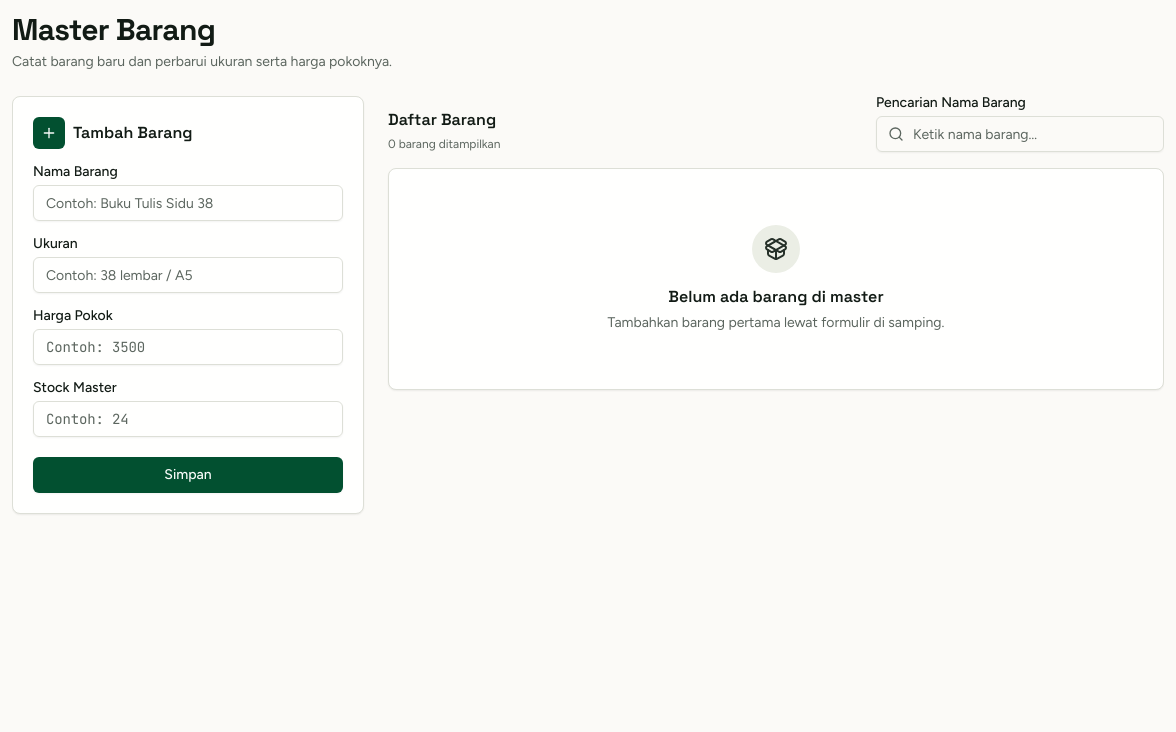
Test: MasterBarangPage › creates a barang and shows it in the master list
The image size is (1176, 732).
Expected: the text "Belum ada barang di master" is shown, [668,286,884,307]
Type "Buku Tulis Sidu" into the field with test id "master.nama_input" at (188, 203), box [33,185,343,221]
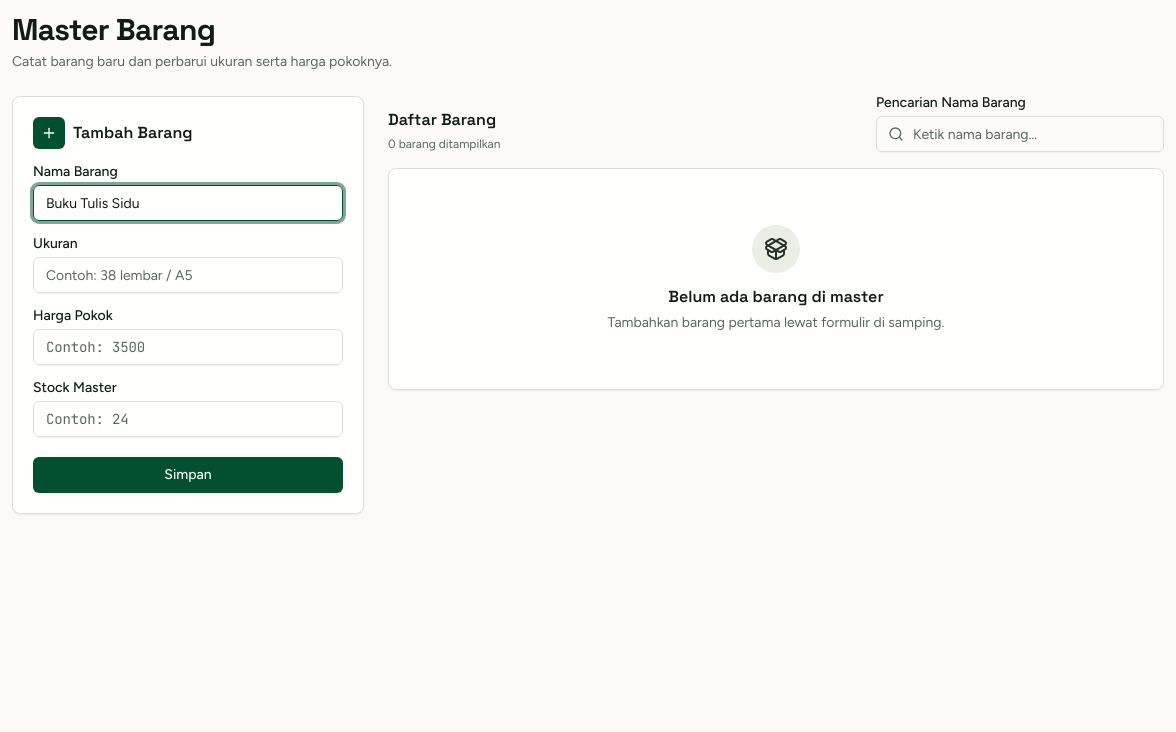
Type "38 lembar" into the field with test id "master.ukuran_input" at (188, 275), box [33,257,343,293]
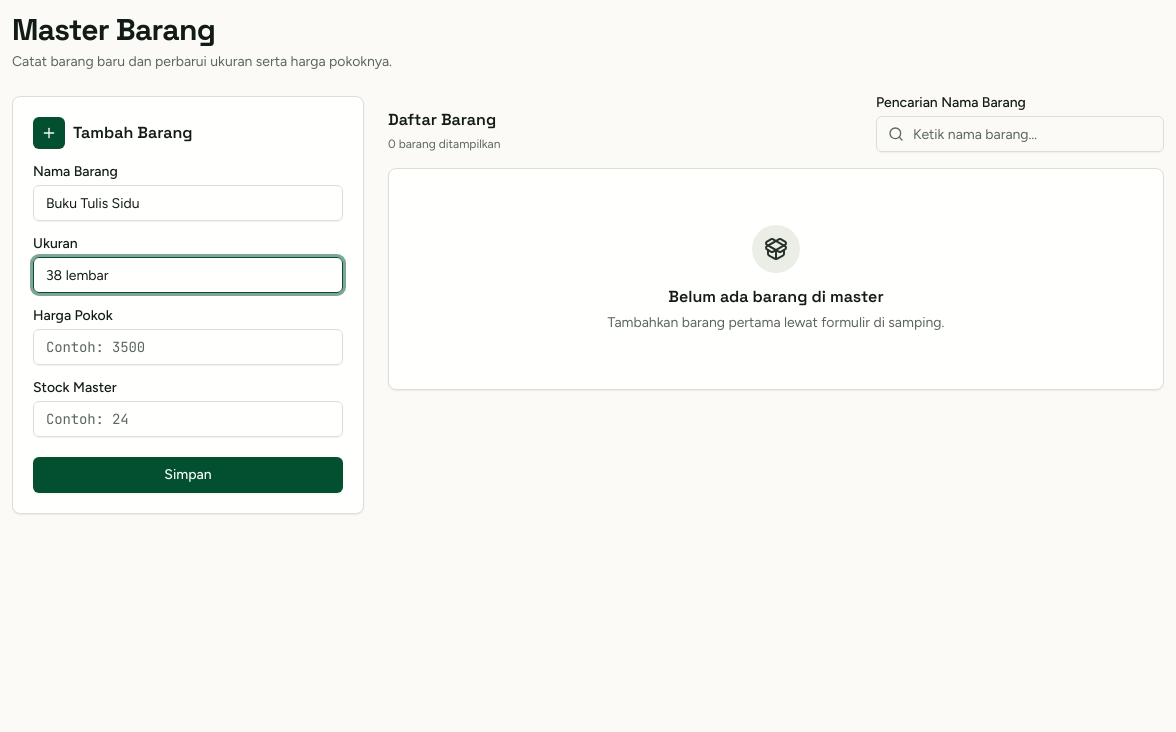
Type "3500" into the field with test id "master.harga_input" at (188, 347), box [33,329,343,365]
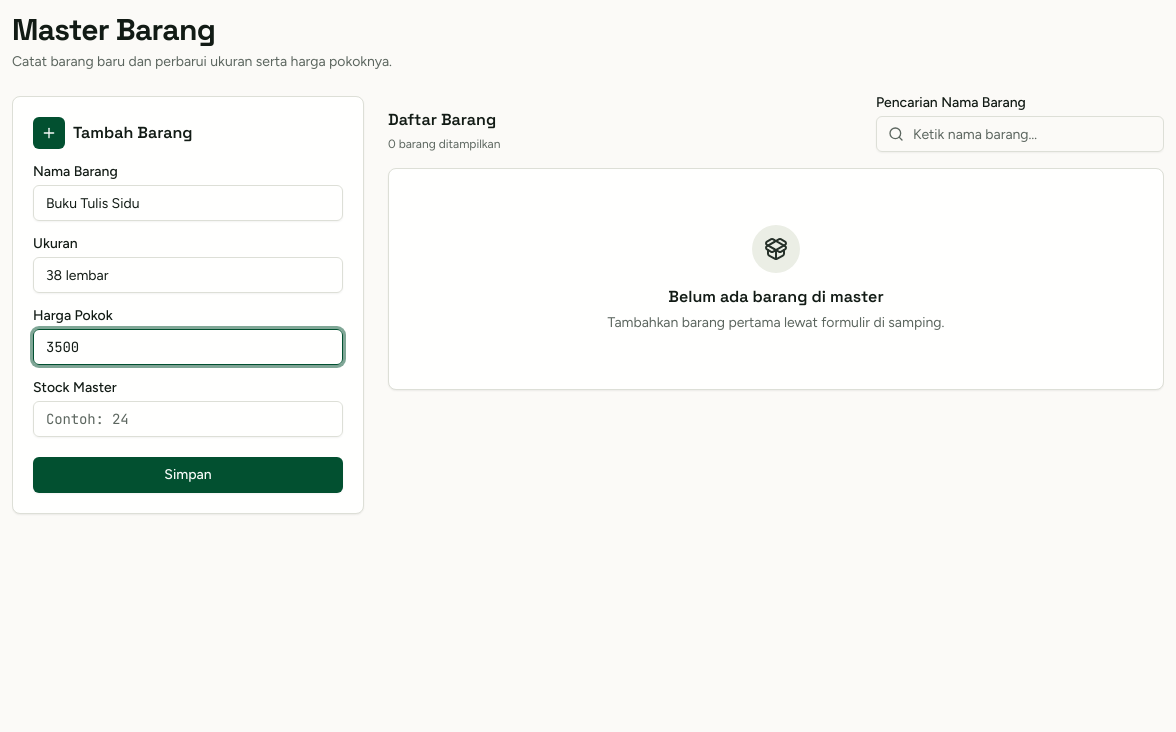
Type "24" into the field with test id "master.stock_input" at (188, 419), box [33,401,343,437]
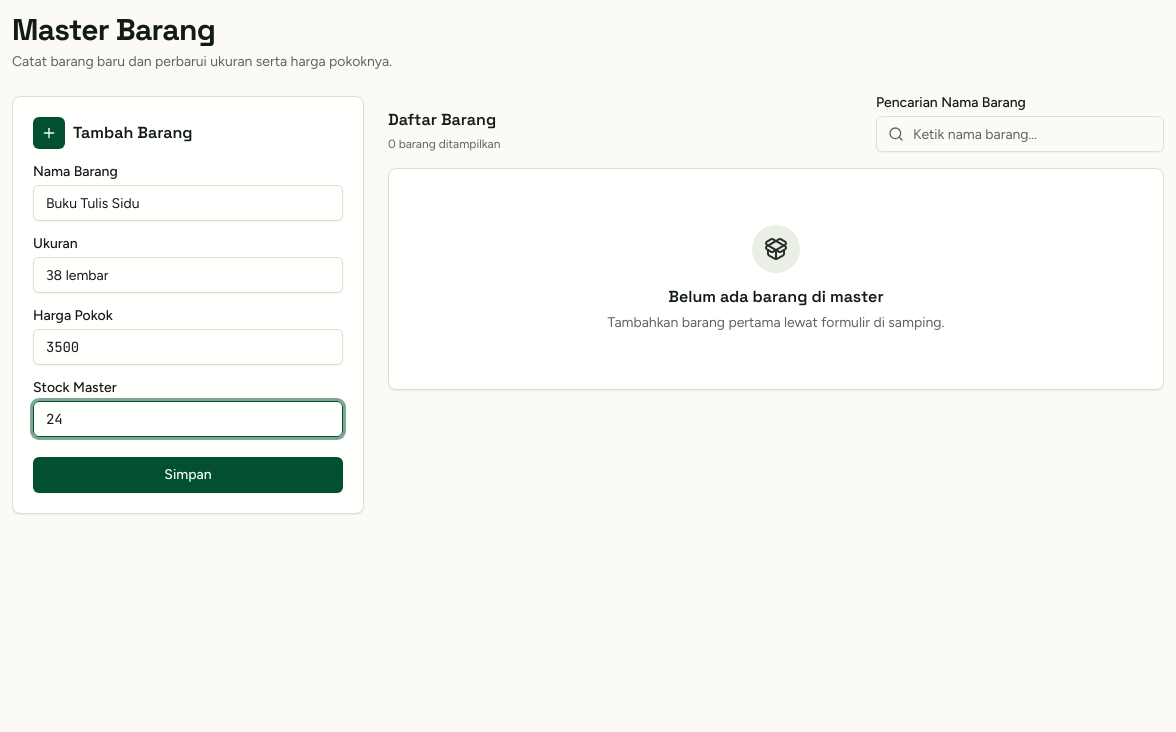
Click the button with test id "master.submit_button" at (188, 475), box [33,457,343,493]
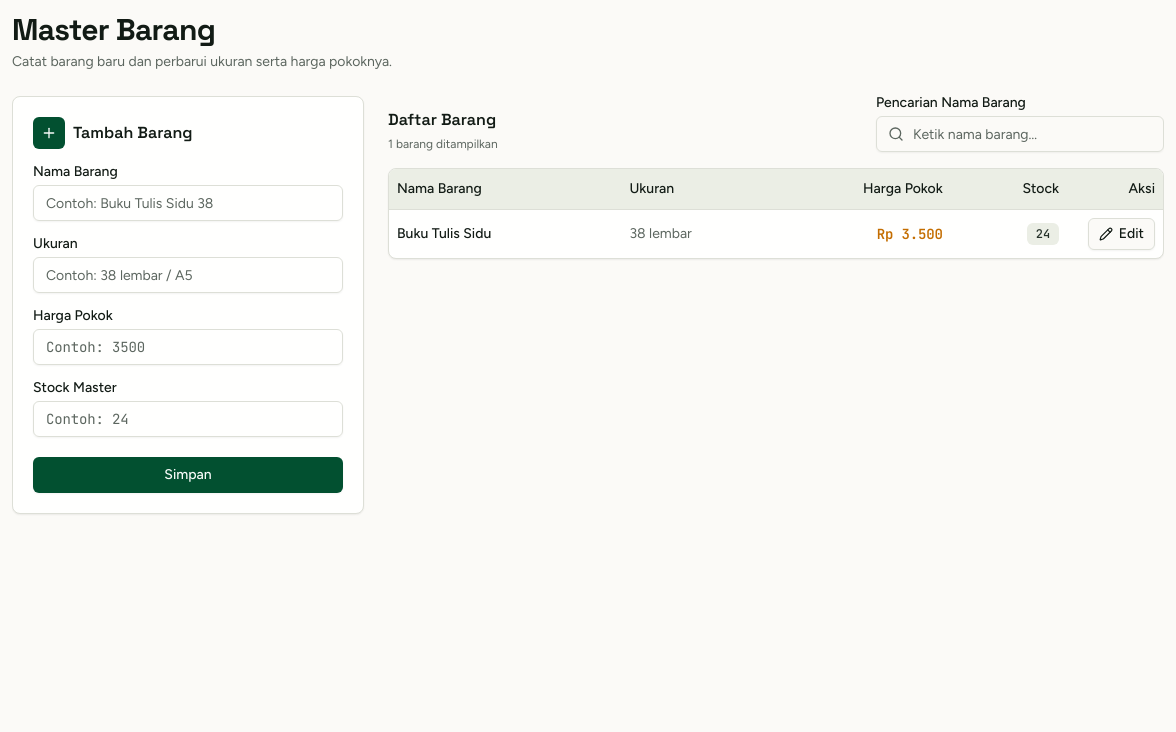
Now the text "Buku Tulis Sidu" is shown, box [389,209,622,258]
Now the text "38 lembar" is shown, box [622,209,776,258]
Now the text "Rp 3.500" is shown, box [776,209,951,258]
